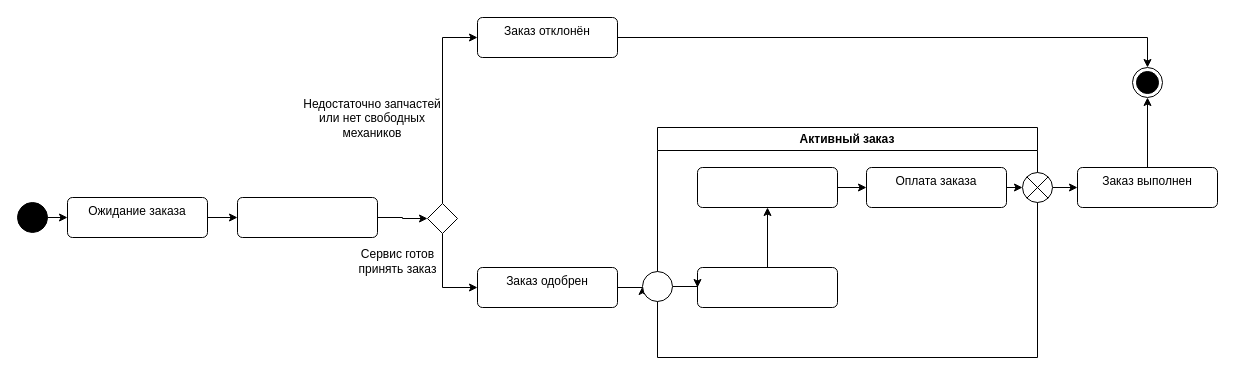
The diagram is 1235 pixels wide and 375 high, and some of its shapes have lost their labels. Each missing label, with the centre of its shape:
"Выполнение ремонтных работ" belongs at (x=767, y=187).
"Обработка заказа" belongs at (x=307, y=217).
"Сдача машины в ремонт" belongs at (x=767, y=287).
